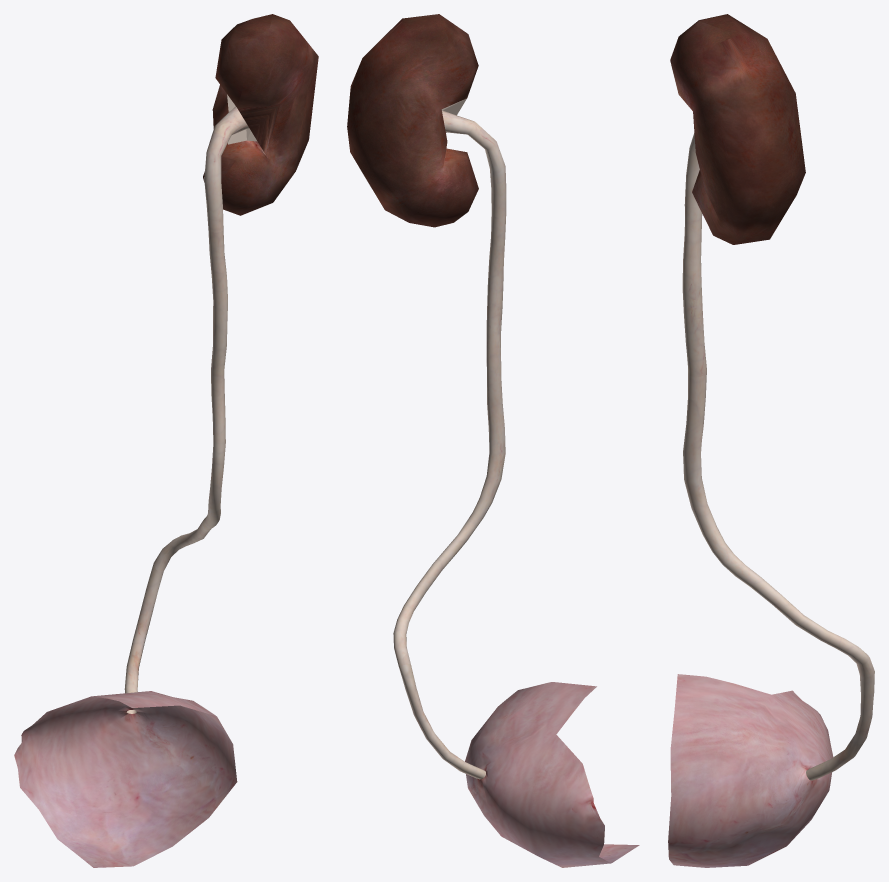
The model's file is Urinary_left.obj.
3 views of the same model, side by side, from view 1: azimuth 30°, elevation 25°; view 2: azimuth 150°, elevation 25°; view 3: azimuth 270°, elevation 25° (orthographic). The views are drawn at different scales.
Visible parts, largest first — view 1: Urinary_Ureter_Left_Untitled; view 2: Urinary_Ureter_Left_Untitled; view 3: Urinary_Ureter_Left_Untitled.
Boxes of the visible parts, left/top/right/bottom form: Urinary_Ureter_Left_Untitled: left=14, top=14, right=318, bottom=867; Urinary_Ureter_Left_Untitled: left=347, top=14, right=639, bottom=867; Urinary_Ureter_Left_Untitled: left=668, top=14, right=874, bottom=867.
Size of the model in its own units: 21.15 by 59.04 by 12.01.
